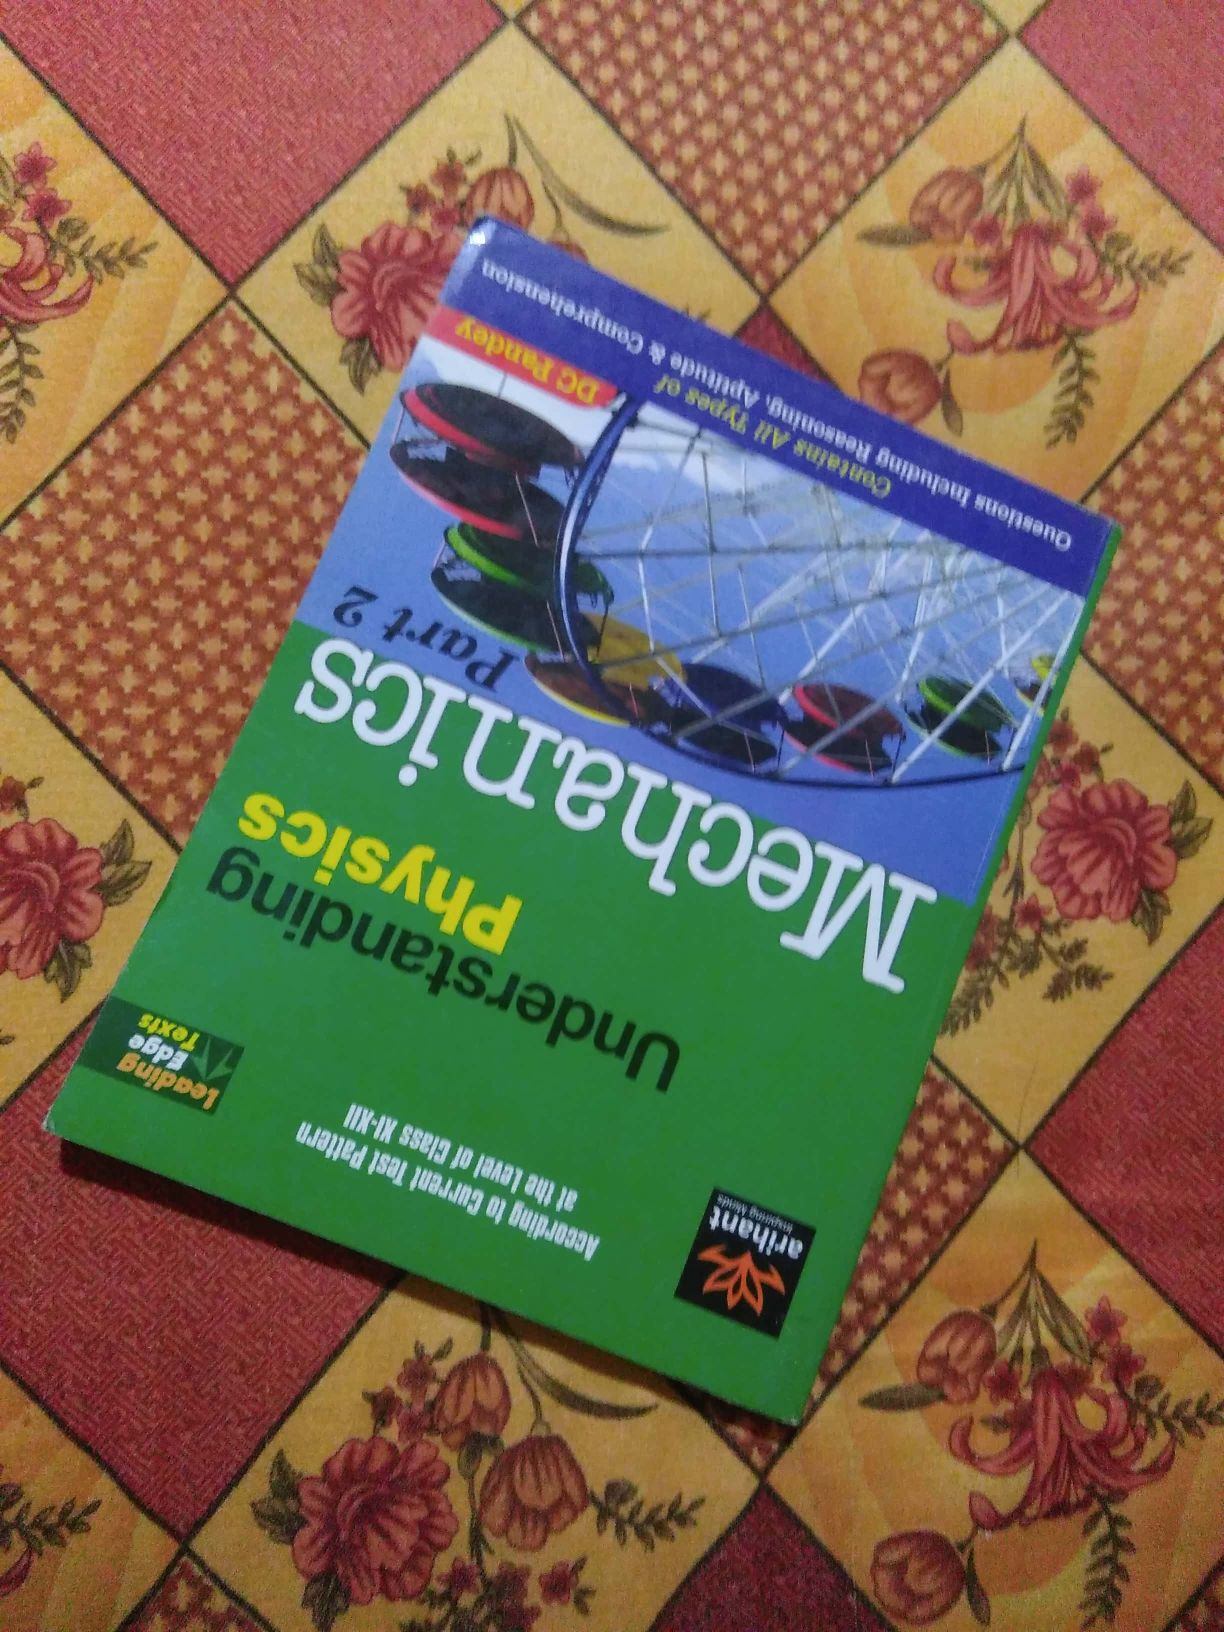mechanics: (105, 239, 1166, 1393)
